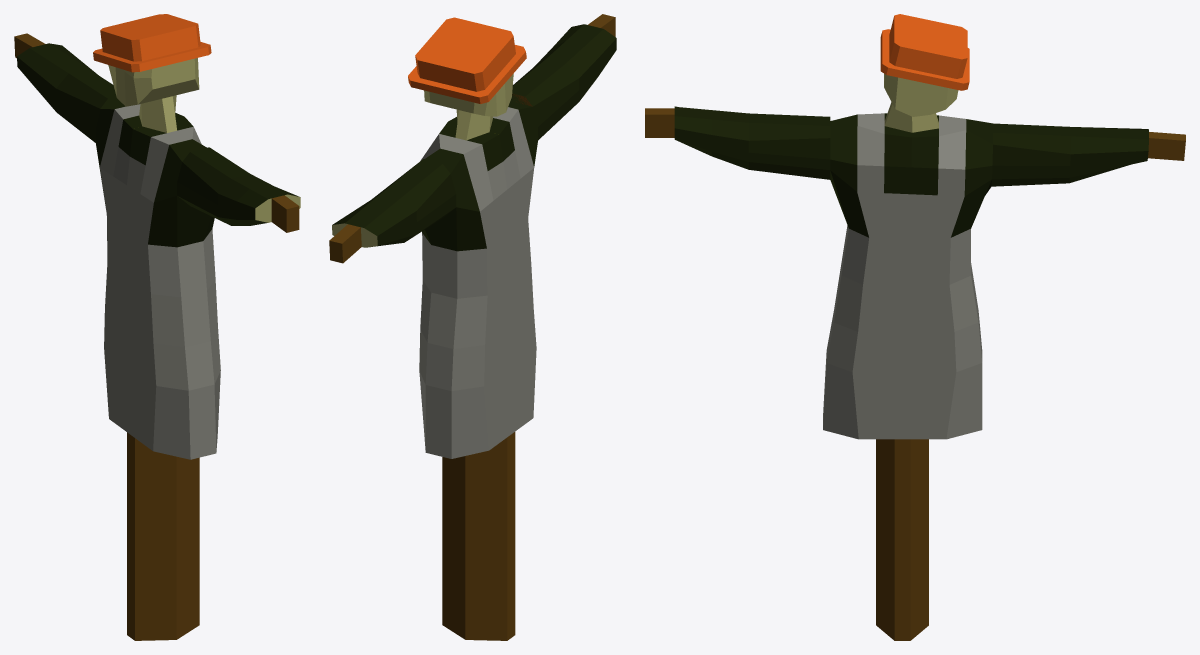
File: ScareCrow.fbx
The picture shows the model from 3 angles, left to right: view 1: azimuth 30°, elevation 25°; view 2: azimuth 150°, elevation 25°; view 3: azimuth 270°, elevation 25°; orthographic projection.
Visible parts, largest first — view 1: ScareCrow.001; view 2: ScareCrow.001; view 3: ScareCrow.001.
Boxes of the visible parts, box(x1,y1,x2,y2) form: ScareCrow.001: box(14, 14, 300, 640); ScareCrow.001: box(329, 14, 616, 640); ScareCrow.001: box(645, 14, 1185, 640).
Size of the model in its own units: 1460 by 247 by 1776.
